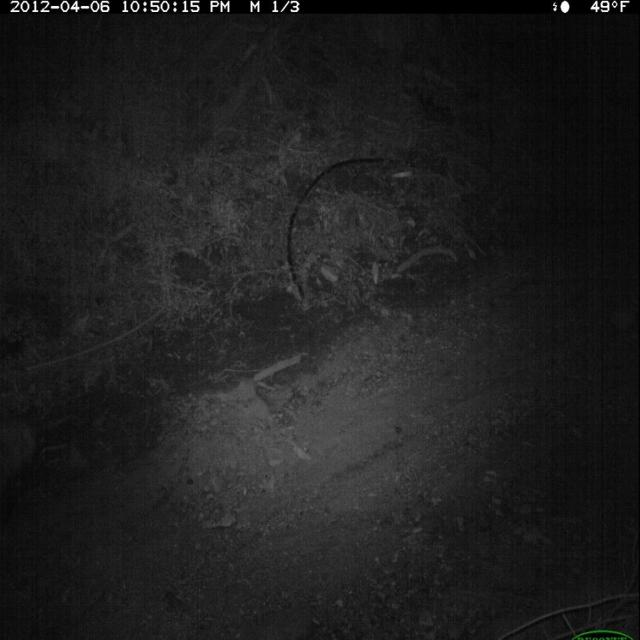opossum: (1, 400, 87, 502)
